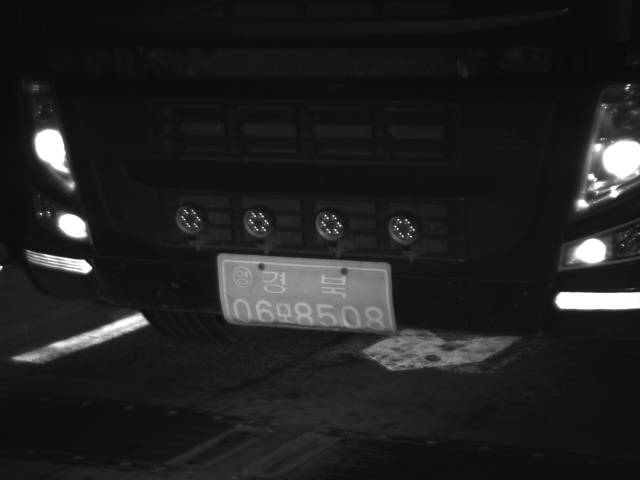car: (18, 2, 640, 346)
plate: (216, 252, 398, 338)
